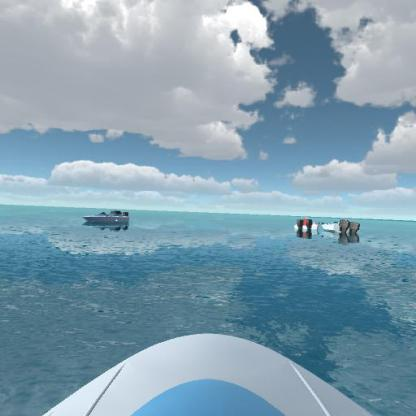usv1: (77, 204, 138, 233), (322, 216, 360, 237)
usv3: (286, 212, 327, 235)
